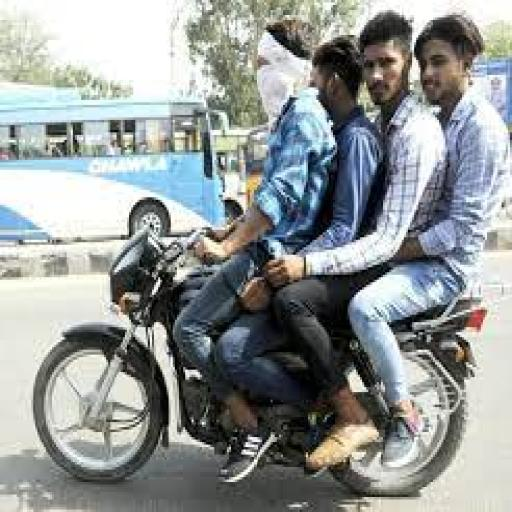overloading: (29, 220, 489, 497)
